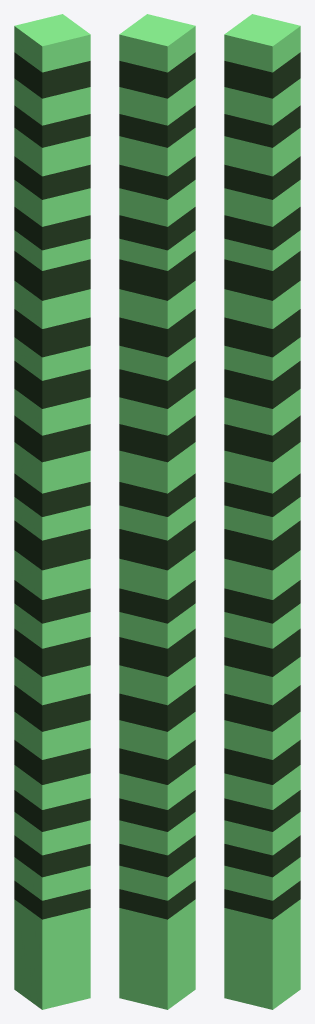
Rendered from bamboo.glb.
The picture shows the model from 3 angles, left to right: view 1: azimuth 30°, elevation 25°; view 2: azimuth 150°, elevation 25°; view 3: azimuth 330°, elevation 25°; orthographic projection.
Visible parts, largest first — view 1: Cube; view 2: Cube; view 3: Cube.
Boxes of the visible parts, x1,y1,x2,y2 form: Cube: (14, 14, 90, 1009); Cube: (119, 14, 195, 1009); Cube: (224, 14, 300, 1009).
Bounding box in the file's own units: 0.401 × 7.6 × 0.401.
